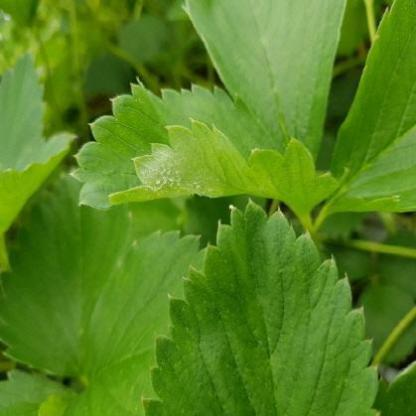Strawberry_Powdery_Mildew_Leaf: (69, 82, 350, 230)
